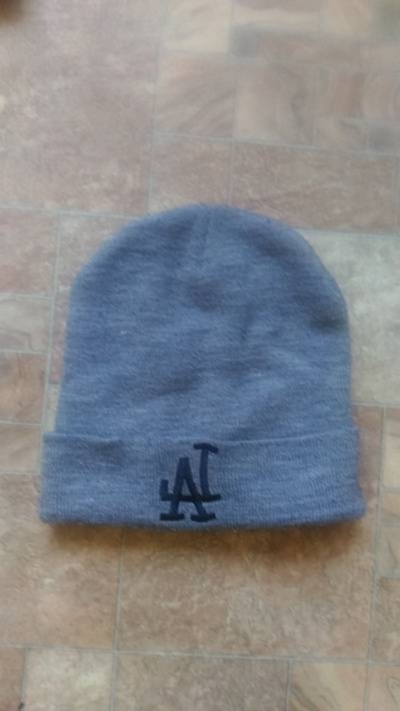Hat: (25, 199, 370, 561)
